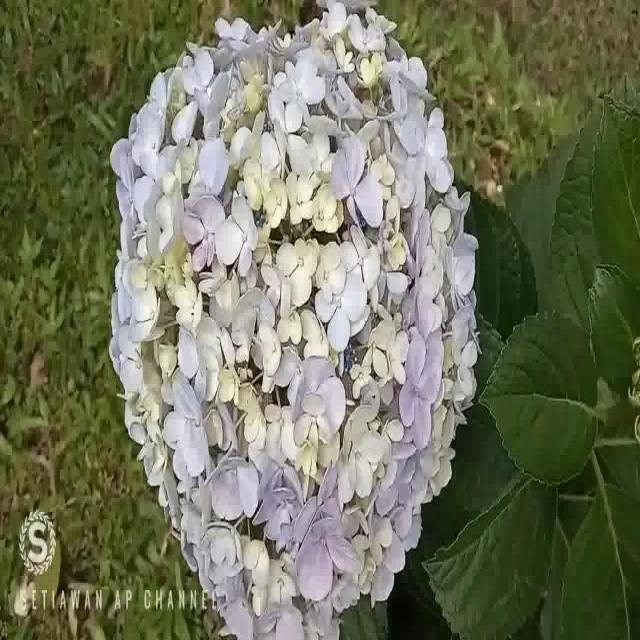Flower: (106, 1, 487, 640)
